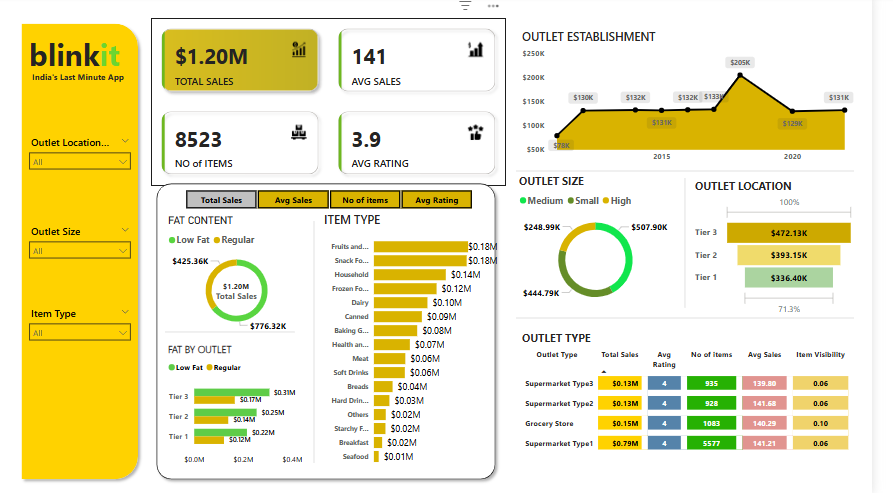

The page's visual inventory and layout, read from the dashboard file:
{"tool":"powerbi","page":{"name":"Page 1","canvas":[1400,800],"ordinal":0},"visuals":[{"type":"shape","box":[25.7,35.3,205,750],"z":0},{"type":"textbox","box":[277.9,501.2,205.6,284.3],"z":1000},{"type":"textbox","box":[41.8,56.2,173.5,73.9],"z":2000},{"type":"textbox","box":[46.6,115.7,168.7,49.8],"z":3000},{"type":"cardVisual","fields":{"Data":["BlinkIT Grocery Data.Total Sales","BlinkIT Grocery Data.Avg Sales","BlinkIT Grocery Data.No of items","BlinkIT Grocery Data.Avg Rating"]},"box":[242.6,35.3,570.3,269.9],"z":4000},{"type":"shape","box":[242.6,292.4,562.2,493.2],"z":5000},{"type":"donutChart","title":"FAT CONTENT","fields":{"Y":["BlinkIT Grocery Data.Total Sales"],"Category":["BlinkIT Grocery Data.Item Fat Content"]},"box":[265.1,350.2,231.3,194.4],"z":6000},{"type":"slicer","fields":{"Values":["metrics.metrics"]},"box":[273.1,305.2,509.2,40.2],"z":7000},{"type":"cardVisual","fields":{"Data":["BlinkIT Grocery Data.Total Sales"]},"box":[324.5,440.2,110.8,61],"z":8000},{"type":"clusteredBarChart","title":"FAT BY OUTLET","fields":{"Y":["BlinkIT Grocery Data.Total Sales"],"Category":["BlinkIT Grocery Data.Outlet Location Type"],"Series":["BlinkIT Grocery Data.Item Fat Content"]},"box":[265.1,555.8,231.3,207.2],"z":9000},{"type":"shape","box":[461,361.4,86.7,388.8],"z":10000},{"type":"barChart","title":"ITEM TYPE","fields":{"Y":["BlinkIT Grocery Data.Total Sales"],"Category":["BlinkIT Grocery Data.Item Type"]},"box":[515.7,347,289.2,416.1],"z":11000},{"type":"shape","box":[265.1,523.7,208.8,32.1],"z":12000},{"type":"lineChart","title":"OUTLET ESTABLISHMENT","fields":{"Category":["BlinkIT Grocery Data.Outlet Establishment Year"],"Y":["BlinkIT Grocery Data.Total Sales"]},"box":[833.7,53,543,223.3],"z":13000},{"type":"shape","box":[828.9,266.7,543,28.9],"z":14000},{"type":"donutChart","title":"OUTLET SIZE","fields":{"Y":["BlinkIT Grocery Data.Total Sales","BlinkIT Grocery Data.Total Sales"],"Category":["BlinkIT Grocery Data.Outlet Size"]},"box":[828.9,284.3,255.4,224.9],"z":15000},{"type":"shape","box":[1084.3,292.4,32.1,208.8],"z":16000},{"type":"funnel","title":"OUTLET LOCATION","fields":{"Y":["BlinkIT Grocery Data.Total Sales"],"Category":["BlinkIT Grocery Data.Outlet Location Type"]},"box":[1111.6,292.4,265.1,224.9],"z":17000},{"type":"shape","box":[828.9,502.8,543,28.9],"z":18000},{"type":"pivotTable","title":"OUTLET TYPE","fields":{"Values":["BlinkIT Grocery Data.Total Sales","BlinkIT Grocery Data.Avg Rating","BlinkIT Grocery Data.No of items","BlinkIT Grocery Data.Avg Sales","Avg(BlinkIT Grocery Data.Item Visibility)"],"Rows":["BlinkIT Grocery Data.Outlet Type"]},"box":[833.7,536.5,552.6,226.5],"z":19000},{"type":"slicer","fields":{"Values":["BlinkIT Grocery Data.Outlet Location Type"]},"box":[36.9,218.5,183.1,77.1],"z":19001},{"type":"slicer","fields":{"Values":["BlinkIT Grocery Data.Outlet Size"]},"box":[36.9,361.4,183.1,77.1],"z":19002},{"type":"slicer","fields":{"Values":["BlinkIT Grocery Data.Item Type"]},"box":[36.9,493.2,183.1,77.1],"z":19003}]}

Visuals, with their boxes on the page's 1400x800 design canvas (x1, y1, x2, y2). These are canvas units, not pixel positions in the 893x493 screenshot, which may show the page scaled, cropped or inside an application window:
shape: (left=26, top=35, right=231, bottom=785)
textbox: (left=278, top=501, right=484, bottom=786)
textbox: (left=42, top=56, right=215, bottom=130)
textbox: (left=47, top=116, right=215, bottom=166)
cardVisual - BlinkIT Grocery Data.Total Sales x BlinkIT Grocery Data.Avg Sales: (left=243, top=35, right=813, bottom=305)
shape: (left=243, top=292, right=805, bottom=786)
"FAT CONTENT" donutChart: (left=265, top=350, right=496, bottom=545)
slicer - metrics.metrics: (left=273, top=305, right=782, bottom=345)
cardVisual - BlinkIT Grocery Data.Total Sales: (left=324, top=440, right=435, bottom=501)
"FAT BY OUTLET" clusteredBarChart: (left=265, top=556, right=496, bottom=763)
shape: (left=461, top=361, right=548, bottom=750)
"ITEM TYPE" barChart: (left=516, top=347, right=805, bottom=763)
shape: (left=265, top=524, right=474, bottom=556)
"OUTLET ESTABLISHMENT" lineChart: (left=834, top=53, right=1377, bottom=276)
shape: (left=829, top=267, right=1372, bottom=296)
"OUTLET SIZE" donutChart: (left=829, top=284, right=1084, bottom=509)
shape: (left=1084, top=292, right=1116, bottom=501)
"OUTLET LOCATION" funnel: (left=1112, top=292, right=1377, bottom=517)
shape: (left=829, top=503, right=1372, bottom=532)
"OUTLET TYPE" pivotTable: (left=834, top=536, right=1386, bottom=763)
slicer - BlinkIT Grocery Data.Outlet Location Type: (left=37, top=218, right=220, bottom=296)
slicer - BlinkIT Grocery Data.Outlet Size: (left=37, top=361, right=220, bottom=438)
slicer - BlinkIT Grocery Data.Item Type: (left=37, top=493, right=220, bottom=570)
